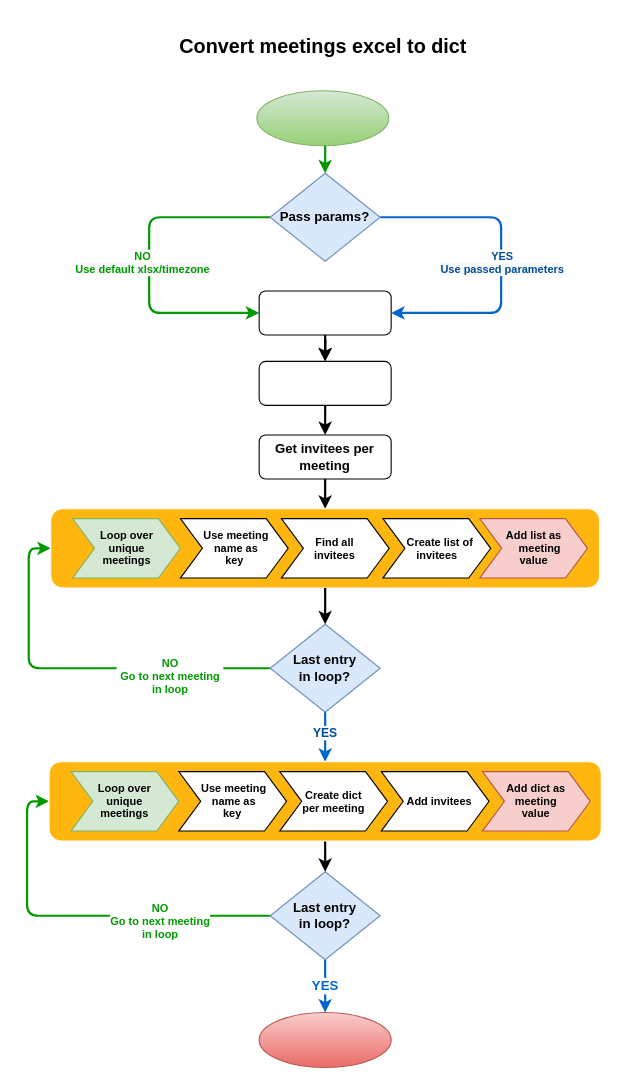
The diagram is 622 pixels wide and 1087 high, and some of its shapes have lost their labels. The box of each missing label's shape, as (x1, y1, x2, y2) in pixels:
Call main from script/tool: (256, 90, 389, 146)
Parse date/time columns: (258, 360, 391, 405)
Read file to dataframe: (258, 290, 391, 335)
Return nested meeting dict: (258, 1011, 391, 1068)
